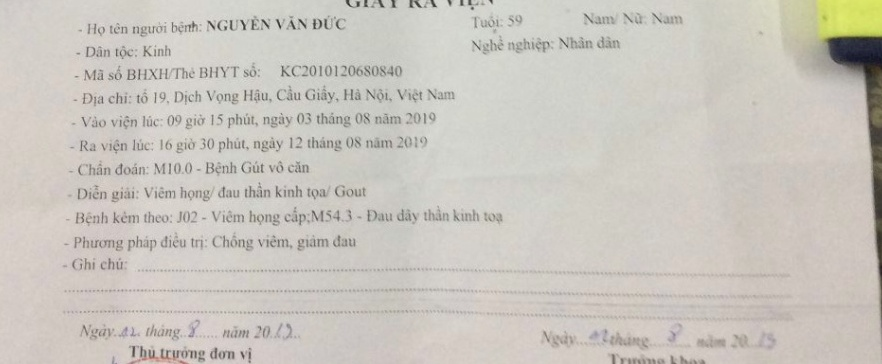add: (305, 82, 340, 105), (242, 84, 273, 104), (204, 88, 240, 105), (364, 85, 395, 104), (394, 85, 425, 104), (427, 85, 459, 103), (174, 89, 203, 108), (276, 86, 304, 104), (341, 84, 365, 104), (152, 90, 172, 106), (134, 90, 153, 106)
birth: (504, 11, 533, 29)
come_time: (316, 109, 353, 131), (228, 110, 261, 131), (373, 107, 405, 128), (261, 111, 294, 130), (404, 109, 438, 127), (185, 109, 207, 132), (164, 111, 184, 132), (354, 108, 373, 129), (294, 109, 316, 127), (209, 109, 228, 128)
diagnostic: (151, 159, 196, 178), (205, 159, 240, 178), (285, 160, 315, 178), (240, 159, 267, 176), (267, 159, 286, 176), (194, 162, 207, 177)
id: (276, 59, 410, 81)
job: (559, 35, 595, 57), (595, 33, 623, 59)
name: (203, 15, 273, 33), (309, 14, 349, 31), (272, 14, 309, 32)
nation: (140, 41, 184, 59)
out_time: (307, 132, 342, 154), (253, 133, 286, 156), (395, 133, 432, 152), (216, 133, 251, 153), (365, 134, 395, 153), (342, 132, 364, 154), (156, 133, 175, 156), (197, 134, 216, 154), (176, 137, 197, 155), (287, 135, 307, 153)
sex: (648, 7, 690, 31)
solution: (210, 231, 256, 254), (256, 231, 297, 254), (296, 233, 332, 256), (333, 233, 361, 255)
